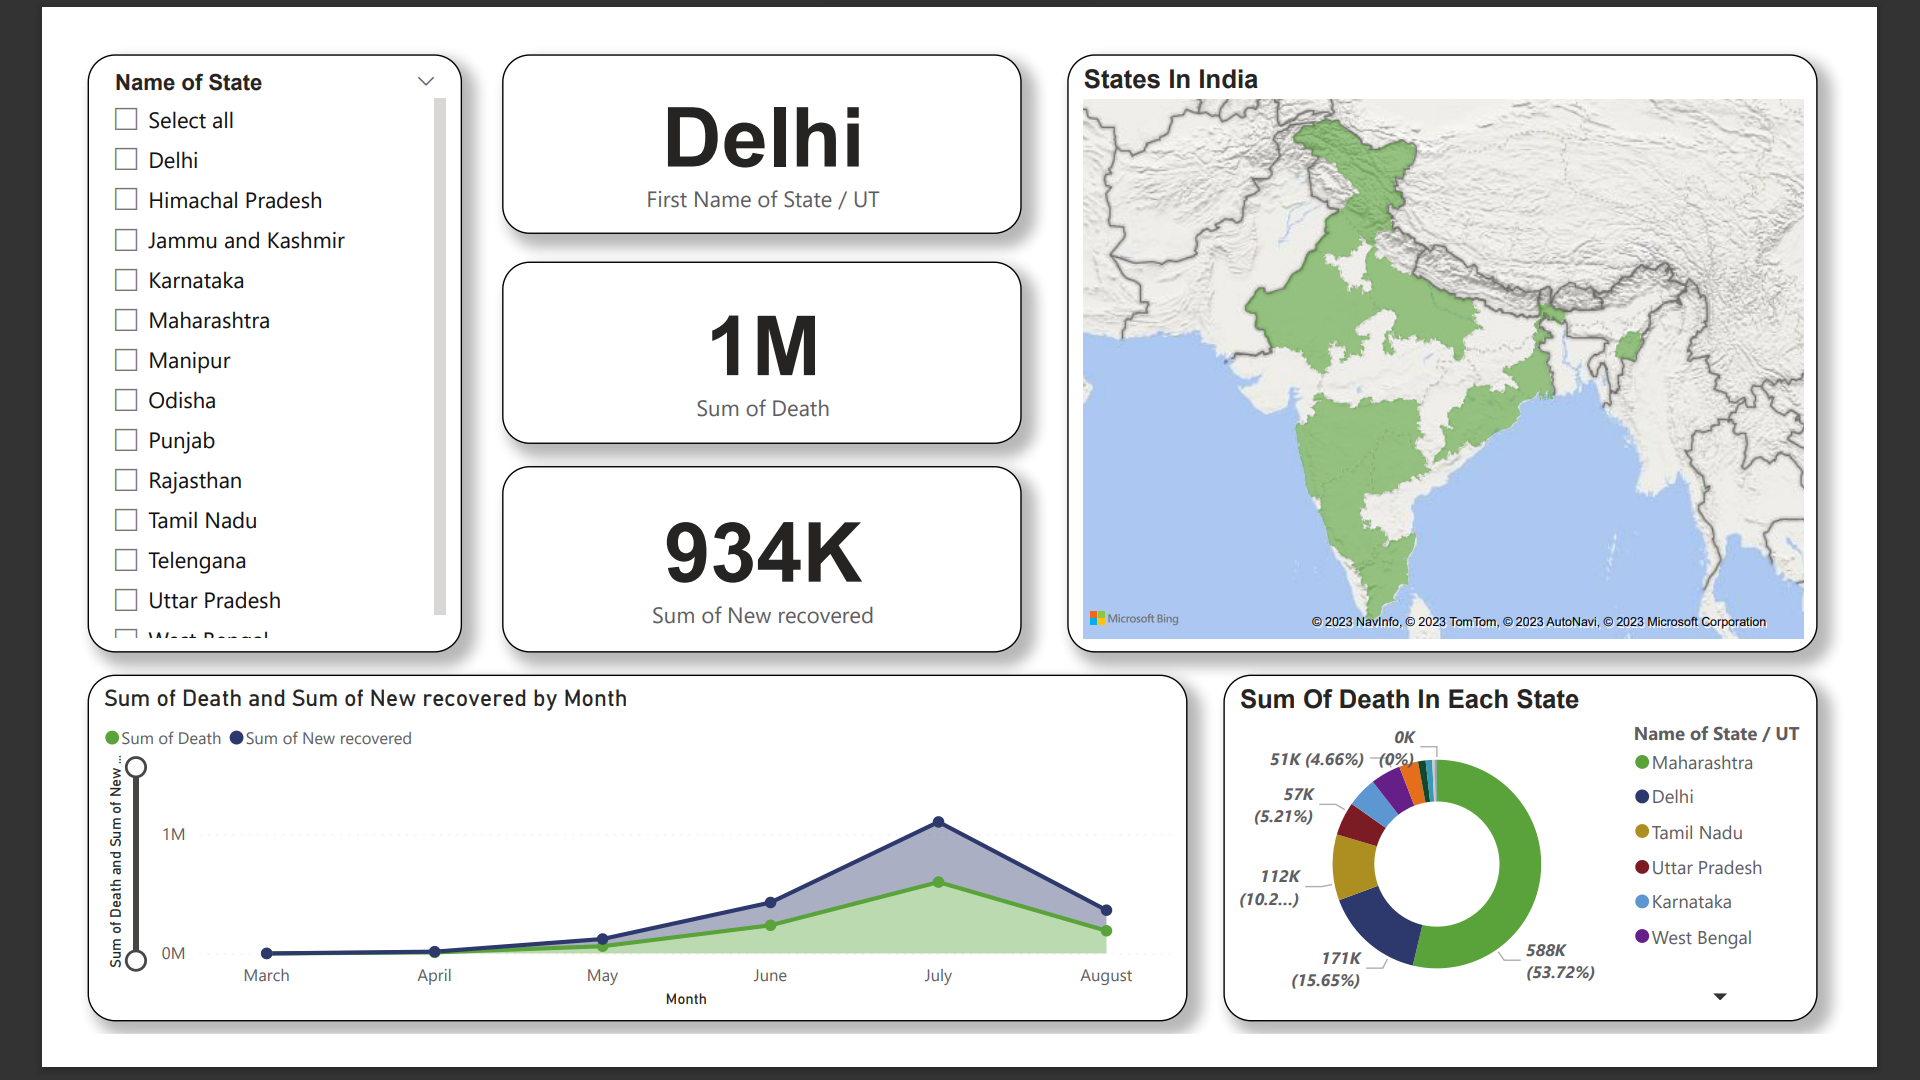

The dashboard page shown, as its layout file describes it:
{"tool":"powerbi","page":{"name":"Page 1","canvas":[1280,720],"ordinal":0},"visuals":[{"type":"slicer","fields":{"Values":["complete.Name of State / UT"]},"box":[8.8,11.2,271.2,432.5],"z":0},{"type":"filledMap","title":"States In India","fields":{"Category":["complete.Name of State / UT"],"X":["Avg(complete.Longitude)"],"Y":["Avg(complete.Latitude)"]},"box":[717.5,11.2,543.8,432.5],"z":1000},{"type":"card","fields":{"Values":["Sum(complete.Death)"]},"box":[308.8,161.2,376.2,131.2],"z":2000},{"type":"card","fields":{"Values":["Sum(complete.New recovered)"]},"box":[308.8,308.8,376.2,135],"z":3000},{"type":"card","fields":{"Values":["Min(complete.Name of State / UT)"]},"box":[308.8,11.2,376.2,130],"z":4000},{"type":"stackedAreaChart","fields":{"Category":["complete.Date.Variation.Date Hierarchy.Month"],"Y":["Sum(complete.Death)","Sum(complete.New recovered)"]},"box":[8.8,460,796.2,251.2],"z":5000},{"type":"donutChart","title":"Sum Of Death In Each State","fields":{"Category":["complete.Name of State / UT"],"Y":["Sum(complete.Death)"]},"box":[831.2,460,430,251.2],"z":6000}]}

Visuals, with their boxes in screenshot pixels (x1, y1, x2, y2), scaled from the page's 1280x720 canvas onto the 1920x1080 screenshot:
slicer - complete.Name of State / UT: detection(13, 17, 420, 666)
"States In India" filledMap: detection(1076, 17, 1892, 666)
card - Sum(complete.Death): detection(463, 242, 1028, 439)
card - Sum(complete.New recovered): detection(463, 463, 1028, 666)
card - Min(complete.Name of State / UT): detection(463, 17, 1028, 212)
stackedAreaChart - complete.Date.Variation.Date Hierarchy.Month x Sum(complete.Death): detection(13, 690, 1208, 1067)
"Sum Of Death In Each State" donutChart: detection(1247, 690, 1892, 1067)
